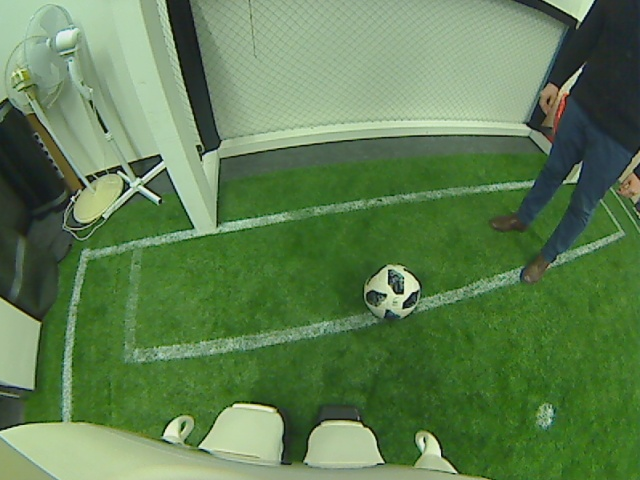ball: (360, 259, 423, 323)
